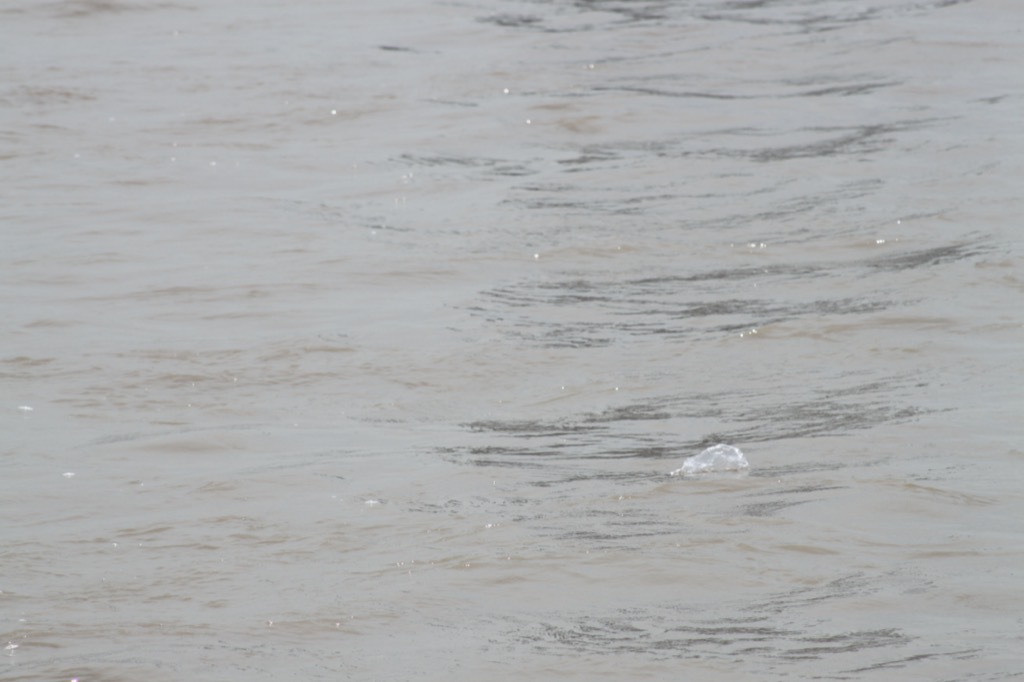plastic: (644, 415, 772, 511)
